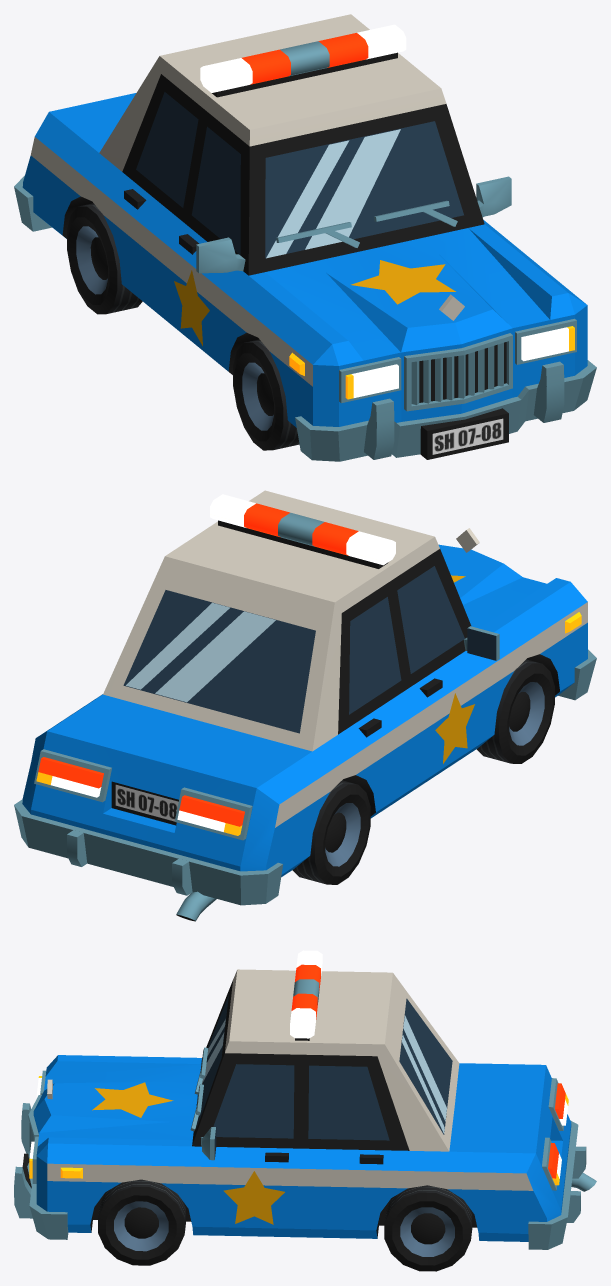
The model's file is police.glb.
3 views of the same model, one above another, from view 1: azimuth 30°, elevation 25°; view 2: azimuth 150°, elevation 25°; view 3: azimuth 270°, elevation 25° (orthographic). The views are drawn at different scales.
Parts seen in each view (by area): view 1: Police_1, BaseS_3, BaseS_1; view 2: Police_1, BaseS_3, BaseS_1; view 3: Police_1, BaseS_2, BaseS.
Part boxes in pixels (bbox=[...]): Police_1: bbox=[14, 14, 596, 461]; BaseS_3: bbox=[67, 203, 142, 314]; BaseS_1: bbox=[233, 339, 299, 450]; Police_1: bbox=[14, 490, 596, 921]; BaseS_3: bbox=[292, 780, 370, 884]; BaseS_1: bbox=[476, 659, 554, 763]; Police_1: bbox=[14, 950, 596, 1249]; BaseS_2: bbox=[384, 1185, 472, 1271]; BaseS: bbox=[98, 1179, 185, 1265].
Size of the model in its own units: 2.31 by 2.09 by 4.78.
Materials: 2 (2 with a texture image).
